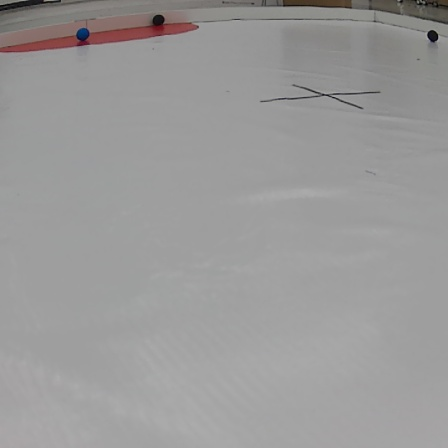black: (152, 12, 166, 27), (427, 28, 441, 43)
blue: (74, 27, 92, 43)
red_base: (0, 22, 204, 55)
